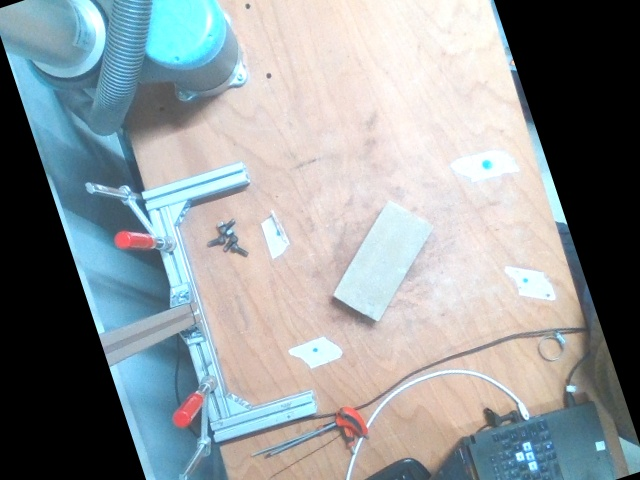brick: (335, 201, 432, 318)
